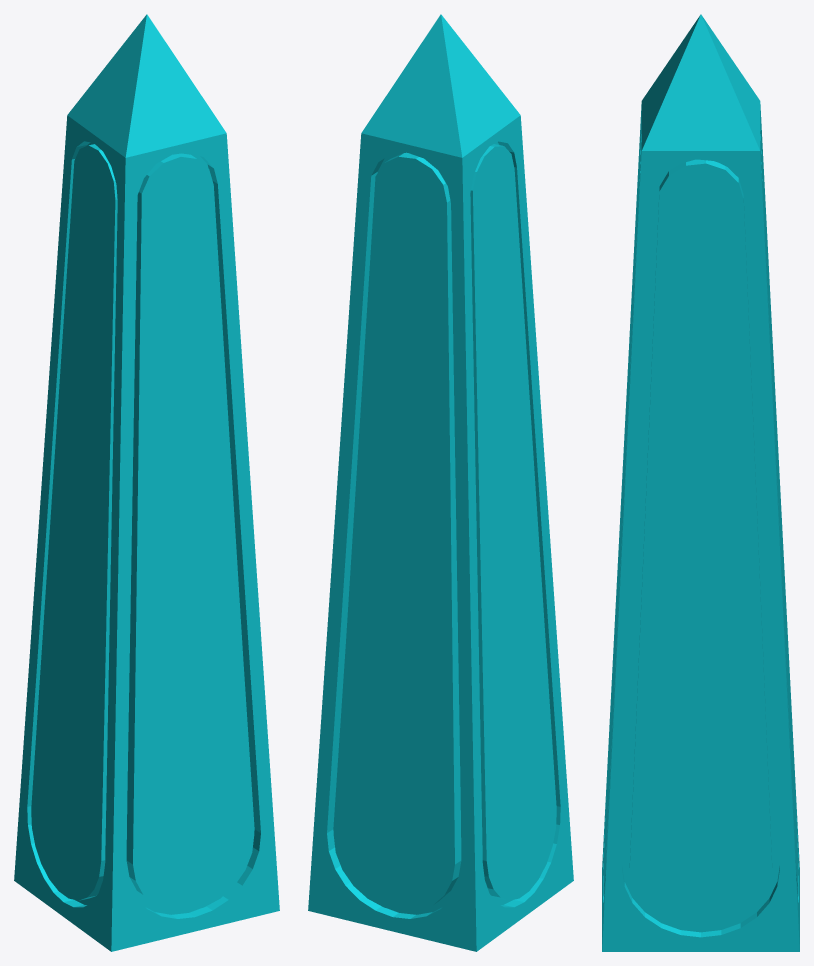
The model's file is claim_obelisk.glb.
The picture shows the model from 3 angles, left to right: view 1: azimuth 30°, elevation 25°; view 2: azimuth 150°, elevation 25°; view 3: azimuth 270°, elevation 25°; orthographic projection.
Visible parts, largest first — view 1: obelisk; view 2: obelisk; view 3: obelisk.
Boxes of the visible parts, bbox=[...] form: obelisk: bbox=[14, 14, 279, 951]; obelisk: bbox=[308, 14, 573, 951]; obelisk: bbox=[602, 14, 799, 951].
Bounding box in the file's own units: 1 × 5 × 1.
